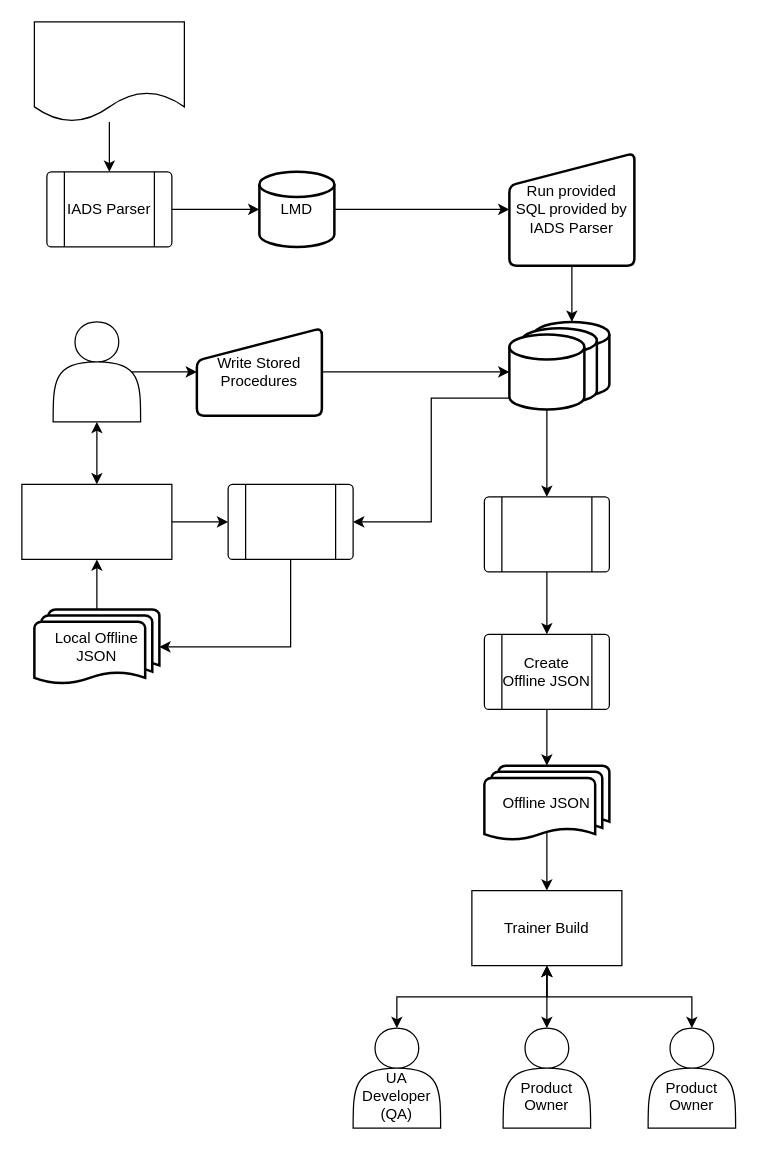
This 758x1150 diagram has some shape labels left out. Each missing label, with the centre of its shape:
"Core" goes at point (546, 371).
"Create Local Offline JSON" goes at point (290, 521).
"IADS" goes at point (108, 71).
"Pipeline Trigger" goes at point (546, 534).
"Trainer in Edit Mode" goes at point (96, 521).
"UA Developer" goes at point (96, 371).
